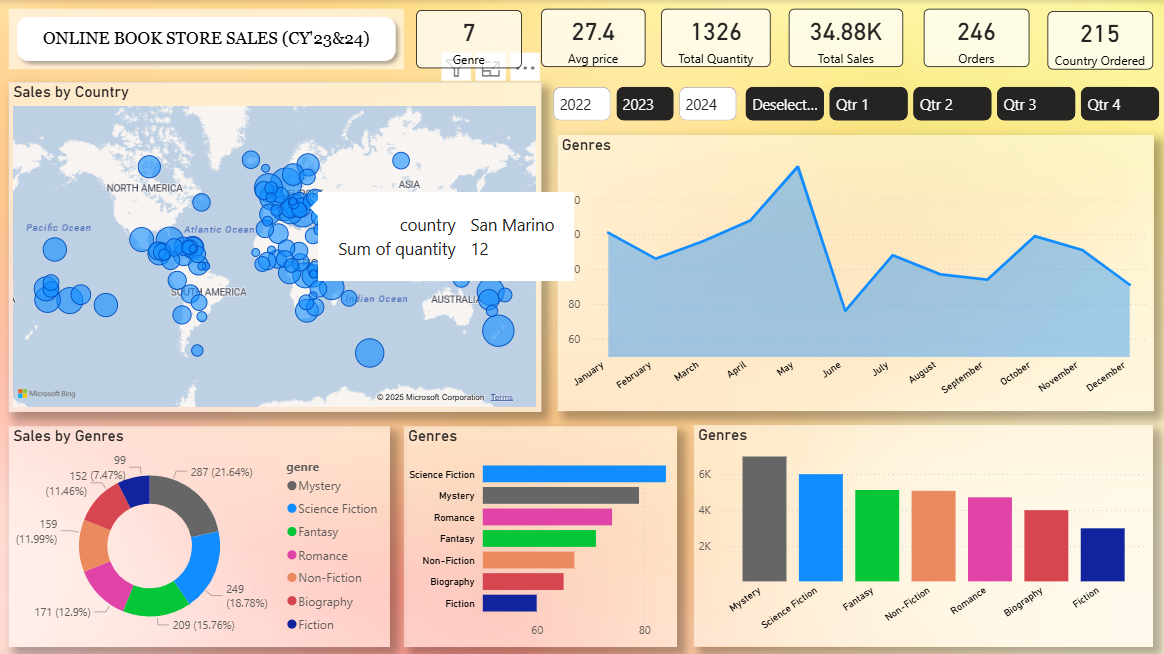

The page's visual inventory and layout, read from the dashboard file:
{"tool":"powerbi","page":{"name":"Page 1","canvas":[1280,720],"ordinal":0},"visuals":[{"type":"shape","box":[10,10,433.8,66.2],"z":0},{"type":"barChart","title":"Genres","fields":{"Category":["public books.genre"],"Y":["CountNonNull(public books.book_id)"]},"box":[443.8,467.5,300,242.5],"z":1000},{"type":"donutChart","title":"Sales by Genres","fields":{"Category":["public books.genre"],"Y":["Sum(public orders.quantity)"]},"box":[10,467.5,418.8,242.5],"z":2000},{"type":"map","title":"Sales by Country","fields":{"Category":["public customer.country"],"Size":["Sum(public orders.quantity)"]},"box":[10,90,583.8,361.2],"z":3000},{"type":"advancedSlicerVisual","fields":{"Values":["public orders.order_date.Variation.Date Hierarchy.Quarter"]},"box":[814.3,90,465.7,47.1],"z":4000},{"type":"advancedSlicerVisual","fields":{"Values":["public orders.order_date.Variation.Date Hierarchy.Year"]},"box":[602.9,90,211.4,47.1],"z":5000},{"type":"areaChart","title":"Genres","fields":{"Category":["public orders.order_date.Variation.Date Hierarchy.Month"],"Y":["Sum(public orders.quantity)"]},"box":[611.4,148.6,654.3,302.9],"z":6000},{"type":"card","fields":{"Values":["Count(public books.genre)"]},"box":[457.1,11.4,115.7,64.3],"z":7000},{"type":"card","fields":{"Values":["Avg(public books.price)"]},"box":[594.3,10,114.3,64.3],"z":7001},{"type":"card","fields":{"Values":["Sum(public orders.quantity)"]},"box":[725.7,10,120,64.3],"z":7002},{"type":"card","fields":{"Values":["Sum(public orders.total_amount)"]},"box":[865.7,10,125.7,64.3],"z":7003},{"type":"columnChart","title":"Genres","fields":{"Y":["Sum(public orders.total_amount)"],"Category":["public books.genre"]},"box":[761.4,467.1,504.3,242.9],"z":7004},{"type":"card","fields":{"Values":["CountNonNull(public orders.customer_id)"]},"box":[1014.3,10,115.7,64.3],"z":7005},{"type":"card","fields":{"Values":["Count(public customer.country)"]},"box":[1150,12.9,115.7,64.3],"z":7006}]}

Visuals, with their boxes in screenshot pixels (x1, y1, x2, y2), scaled from the page's 1280x720 canvas onto the 1164x654 screenshot:
shape: <region>9, 9, 404, 69</region>
"Genres" barChart: <region>404, 425, 676, 645</region>
"Sales by Genres" donutChart: <region>9, 425, 390, 645</region>
"Sales by Country" map: <region>9, 82, 540, 410</region>
advancedSlicerVisual - public orders.order_date.Variation.Date Hierarchy.Quarter: <region>741, 82, 1163, 125</region>
advancedSlicerVisual - public orders.order_date.Variation.Date Hierarchy.Year: <region>548, 82, 741, 125</region>
"Genres" areaChart: <region>556, 135, 1151, 410</region>
card - Count(public books.genre): <region>416, 10, 521, 69</region>
card - Avg(public books.price): <region>540, 9, 644, 67</region>
card - Sum(public orders.quantity): <region>660, 9, 769, 67</region>
card - Sum(public orders.total_amount): <region>787, 9, 902, 67</region>
"Genres" columnChart: <region>692, 424, 1151, 645</region>
card - CountNonNull(public orders.customer_id): <region>922, 9, 1028, 67</region>
card - Count(public customer.country): <region>1046, 12, 1151, 70</region>
